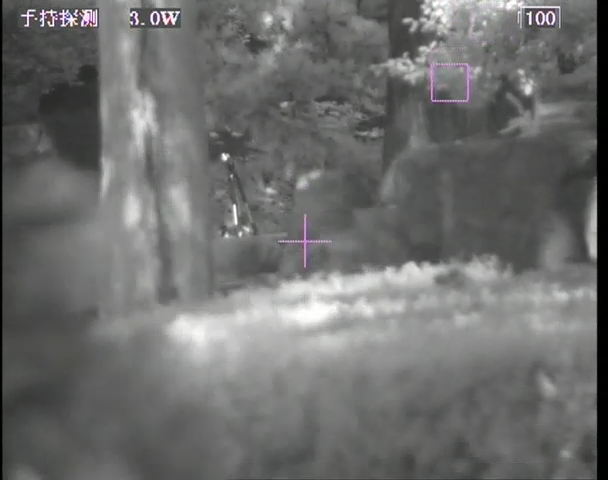my: (219, 152, 231, 163)
